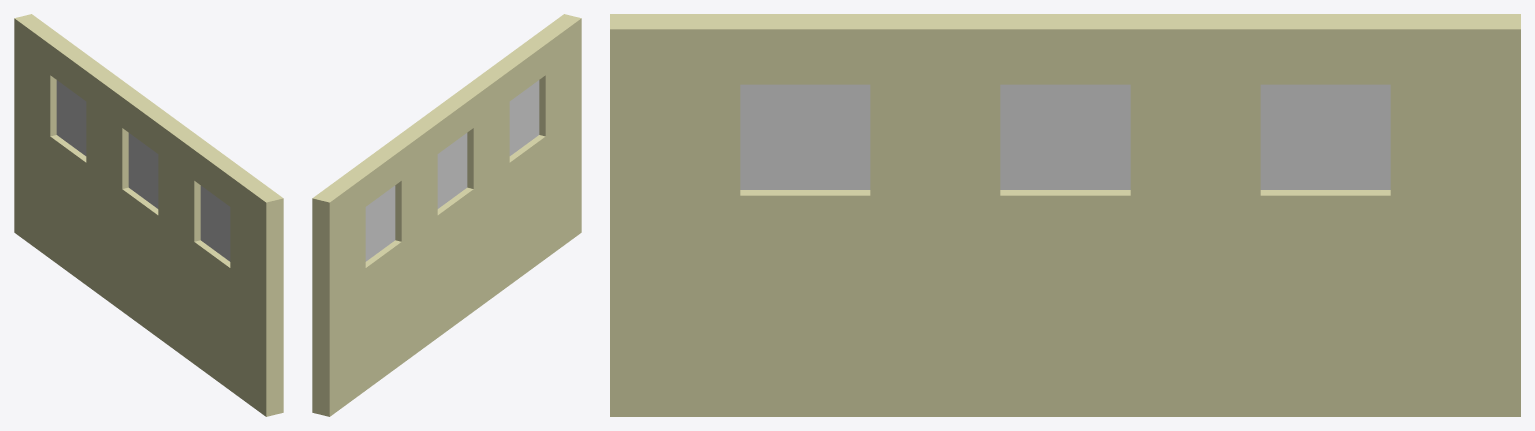
File: RightWall.fbx
The picture shows the model from 3 angles, left to right: view 1: azimuth 30°, elevation 25°; view 2: azimuth 150°, elevation 25°; view 3: azimuth 270°, elevation 25°; orthographic projection. The views are drawn at different scales.
Parts seen in each view (by area): view 1: Right Wall; view 2: Right Wall; view 3: Right Wall.
Part boxes in pixels (x1=…): Right Wall: x1=14, y1=14, x2=283, y2=416; Right Wall: x1=312, y1=14, x2=581, y2=416; Right Wall: x1=610, y1=14, x2=1520, y2=416.
Size of the model in its own units: 50 by 1250 by 587.
